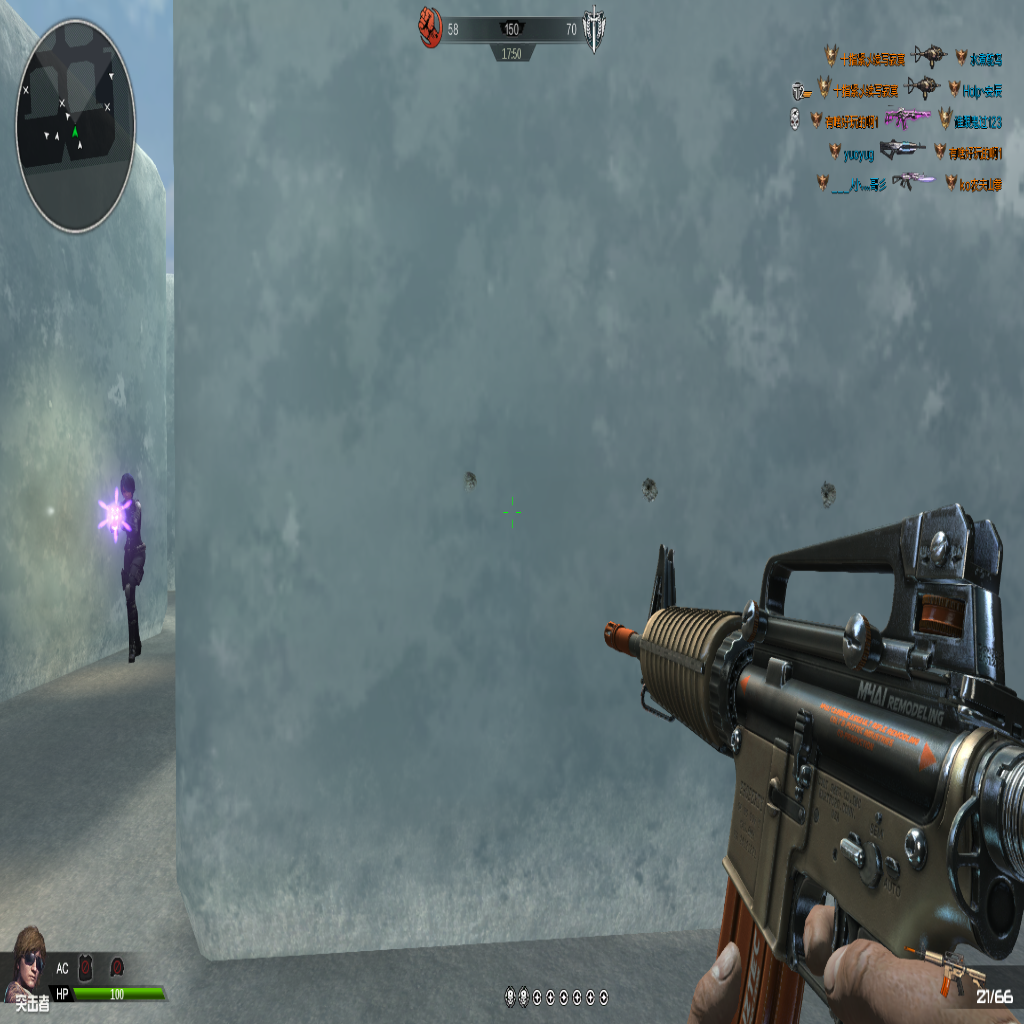ct: (118, 479, 143, 667)
